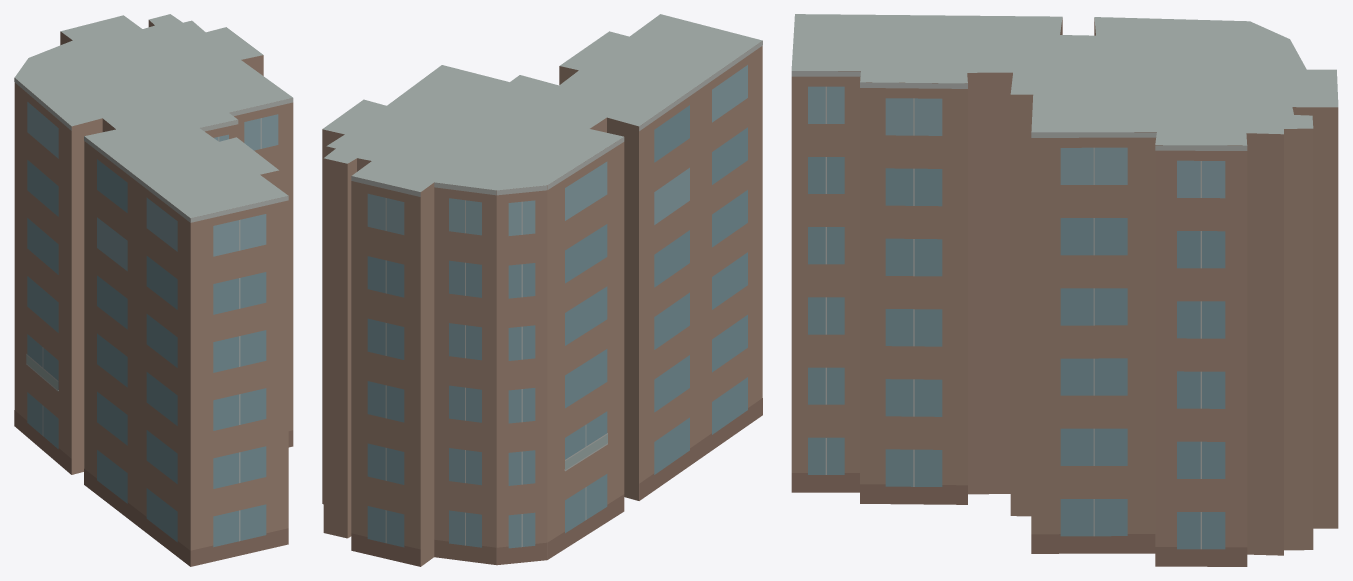
Rendered from survey-upis-32643799.glb.
3 renders of one model, left to right at view 1: azimuth 30°, elevation 25°; view 2: azimuth 150°, elevation 25°; view 3: azimuth 270°, elevation 25°, orthographic. The views are drawn at different scales.
Visible parts, largest first — view 1: survey-upis-32643799.tmp; view 2: survey-upis-32643799.tmp; view 3: survey-upis-32643799.tmp.
Boxes of the visible parts, bbox=[...] form: survey-upis-32643799.tmp: bbox=[14, 14, 293, 566]; survey-upis-32643799.tmp: bbox=[322, 14, 762, 566]; survey-upis-32643799.tmp: bbox=[791, 14, 1338, 566].
Size of the model in its own units: 12.39 by 18.5 by 21.77.
